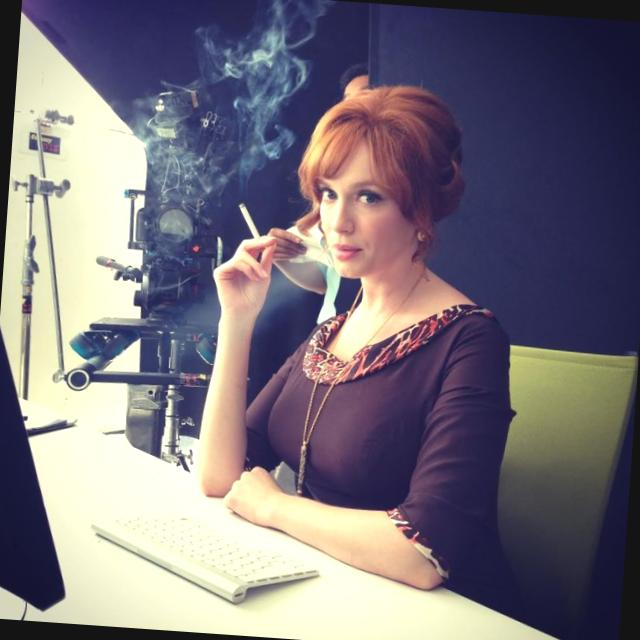cigarette: (231, 202, 264, 230)
